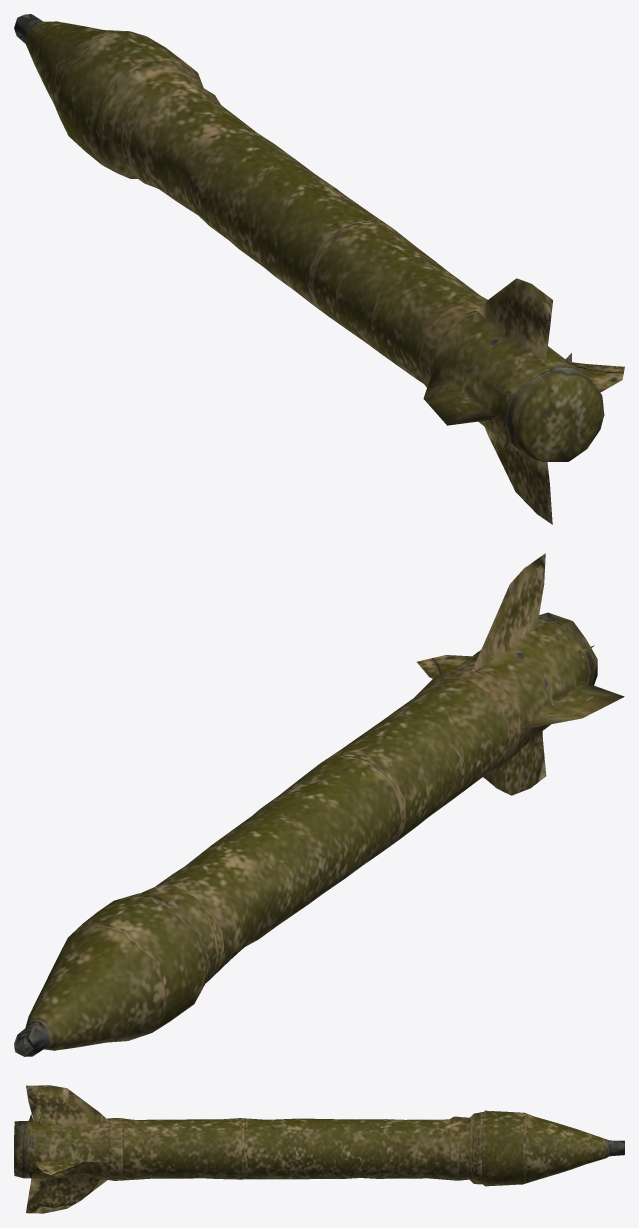
File: SM_WP_BazookaRocket_Varco.fbx
The picture shows the model from 3 angles, top to bottom: view 1: azimuth 30°, elevation 25°; view 2: azimuth 150°, elevation 25°; view 3: azimuth 270°, elevation 25°; orthographic projection. The views are drawn at different scales.
Visible parts, largest first — view 1: texture_mapping; view 2: texture_mapping; view 3: texture_mapping.
Boxes of the visible parts, x1,y1,x2,y2 form: texture_mapping: [14, 14, 624, 524]; texture_mapping: [14, 553, 624, 1056]; texture_mapping: [14, 1085, 624, 1213].
Size of the model in its own units: 0.2078 by 0.9978 by 0.2313.
1 material, 1 textured.
